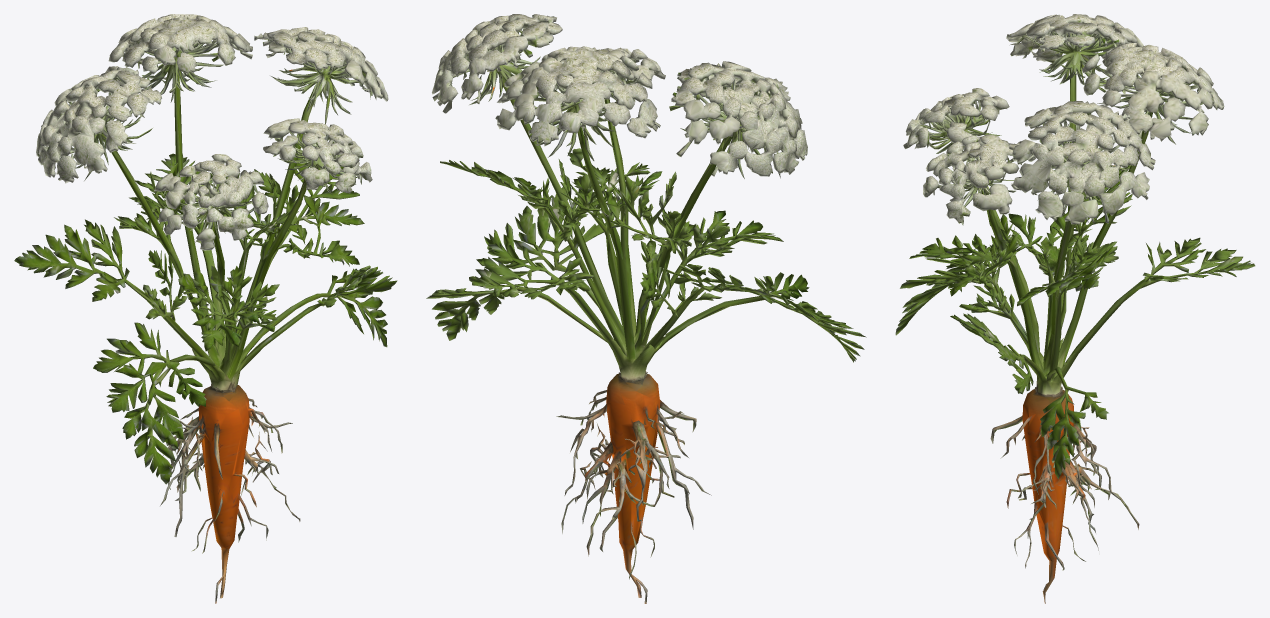
File: zanahoria.glb
The picture shows the model from 3 angles, left to right: view 1: azimuth 30°, elevation 25°; view 2: azimuth 150°, elevation 25°; view 3: azimuth 270°, elevation 25°; orthographic projection. The views are drawn at different scales.
Visible parts, largest first — view 1: Meshy_AI_Daucus_carota_20261022_texture; view 2: Meshy_AI_Daucus_carota_20261022_texture; view 3: Meshy_AI_Daucus_carota_20261022_texture.
Part boxes in pixels (box(x1,y1,x2,y2)): Meshy_AI_Daucus_carota_20261022_texture: box(14, 14, 397, 603); Meshy_AI_Daucus_carota_20261022_texture: box(426, 14, 866, 603); Meshy_AI_Daucus_carota_20261022_texture: box(895, 14, 1255, 603).
Size of the model in its own units: 1.26 by 1.9 by 1.12.
1 material, 1 textured.
